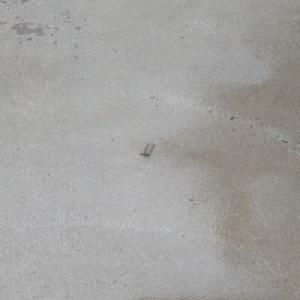MetalPart: (136, 142, 154, 157)
